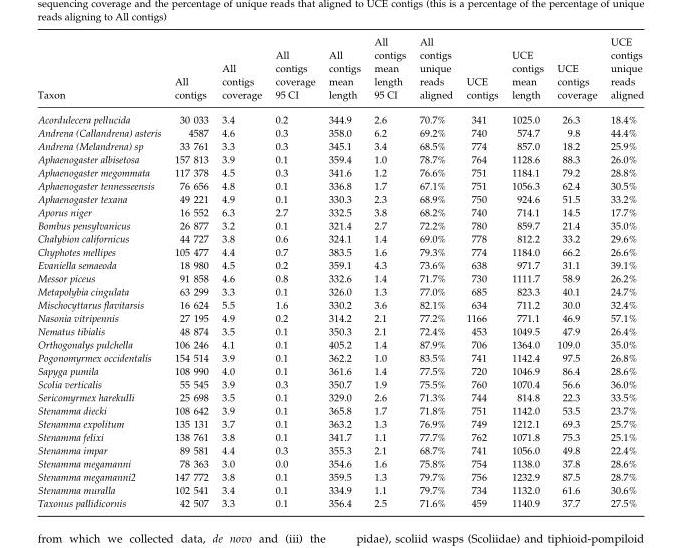table: (36, 37, 643, 509)
table column: (36, 37, 167, 509), (267, 37, 321, 509), (549, 37, 603, 509), (214, 37, 267, 509), (167, 37, 214, 509), (412, 37, 459, 509), (366, 37, 412, 509), (321, 37, 366, 509), (459, 37, 504, 509), (504, 37, 549, 509), (603, 37, 643, 509)
table column header: (36, 37, 643, 107)
table row: (36, 37, 643, 107), (36, 107, 643, 126), (36, 126, 643, 140), (36, 179, 643, 193), (36, 245, 643, 259), (36, 298, 643, 312), (36, 351, 643, 365), (36, 417, 643, 431), (36, 470, 643, 484), (36, 140, 643, 153), (36, 153, 643, 166), (36, 166, 643, 179), (36, 193, 643, 206), (36, 206, 643, 219), (36, 219, 643, 232), (36, 232, 643, 245), (36, 259, 643, 272), (36, 272, 643, 285), (36, 285, 643, 298), (36, 312, 643, 325), (36, 325, 643, 338), (36, 338, 643, 351), (36, 365, 643, 378), (36, 378, 643, 391), (36, 391, 643, 404), (36, 404, 643, 417), (36, 431, 643, 444), (36, 444, 643, 457), (36, 457, 643, 470), (36, 484, 643, 497), (36, 497, 643, 509)
